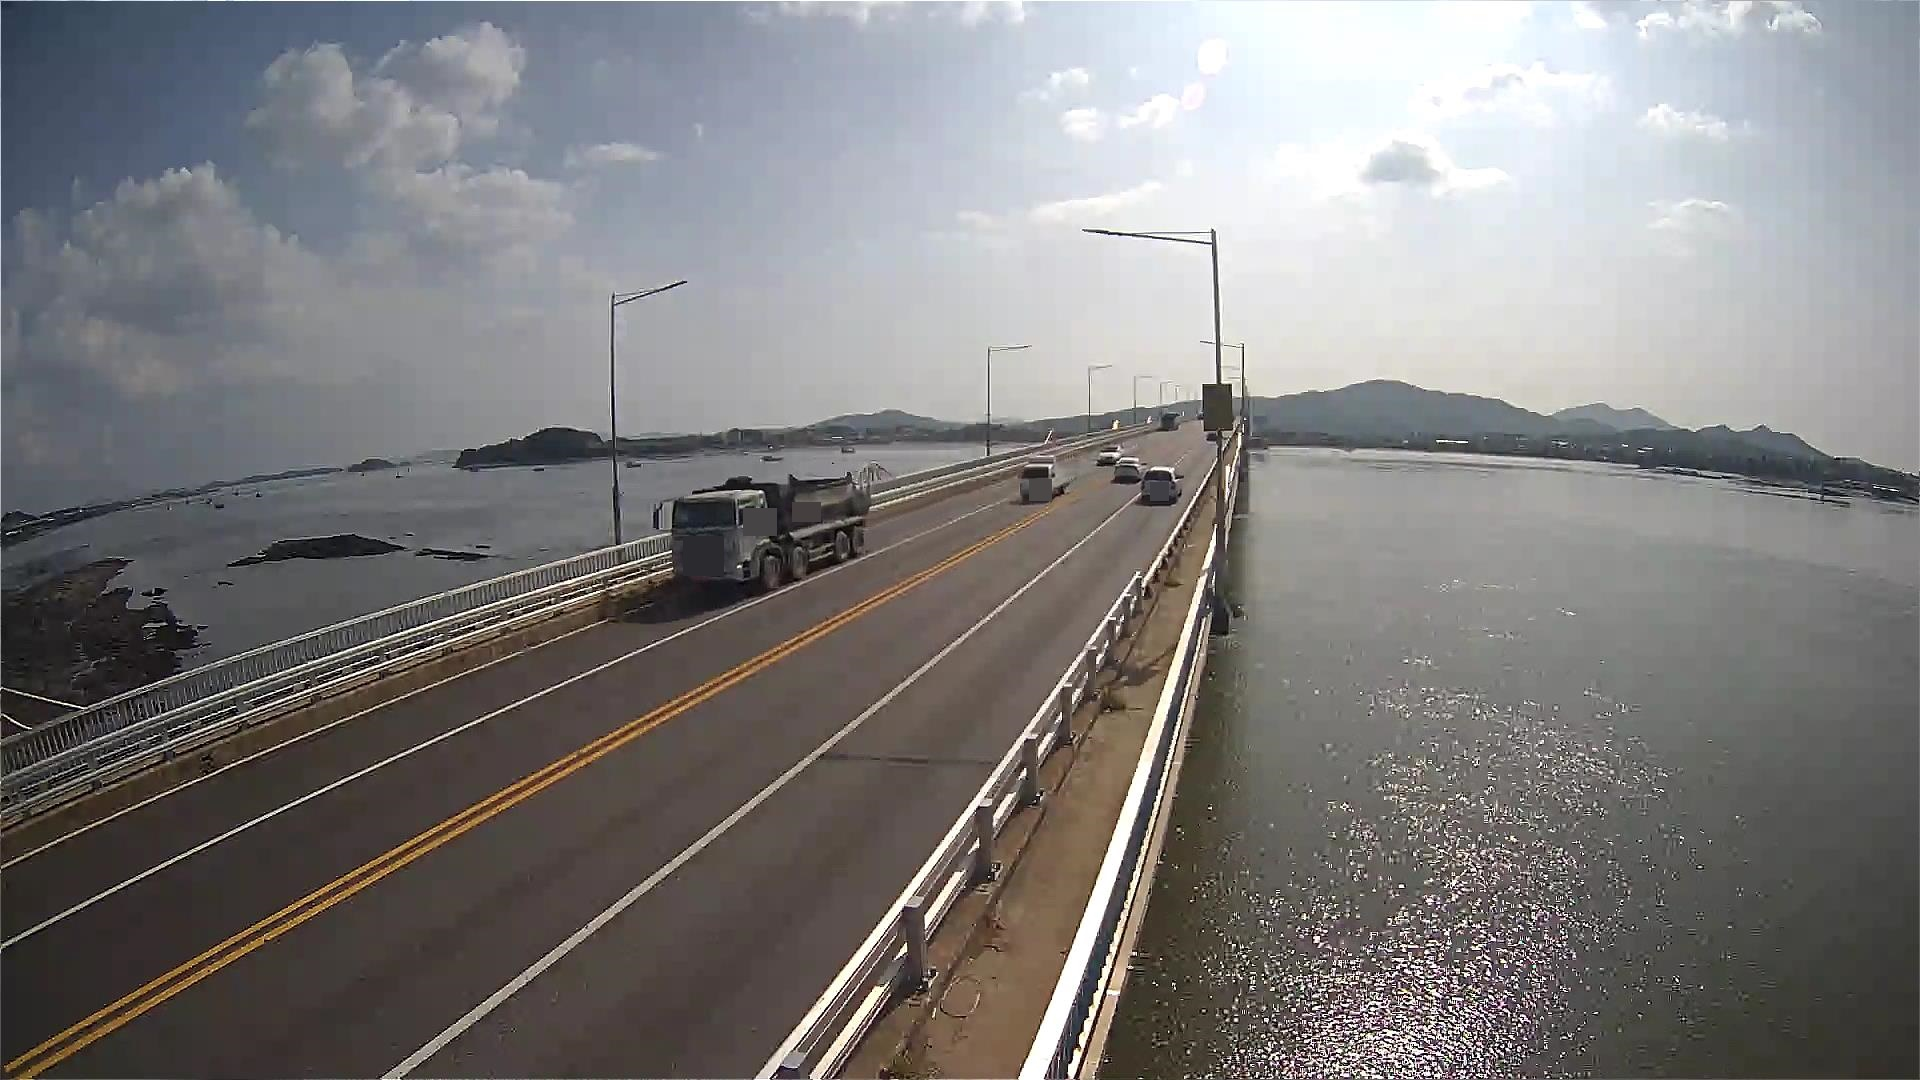정상차량: (653, 472, 869, 588)
